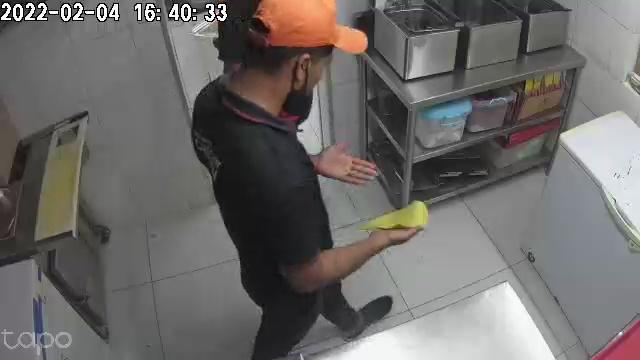no_gloves: (317, 144, 376, 186)
